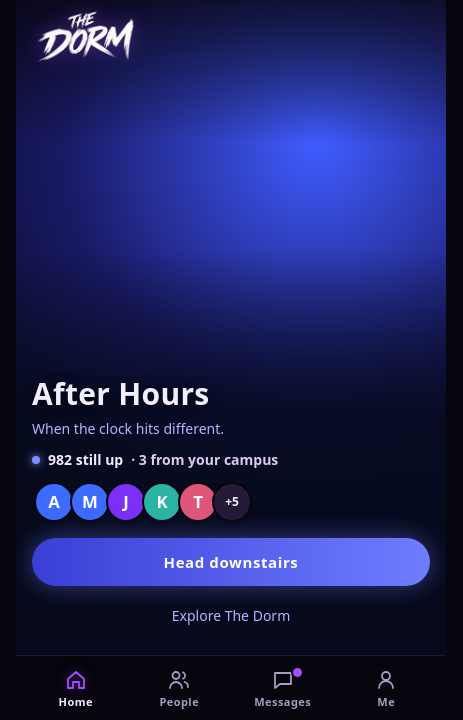
Test: in no room at After Hours: Home shows After Hours with Head downstairs
Click the button "Head downstairs" at (231, 562), box [32,538,430,586]
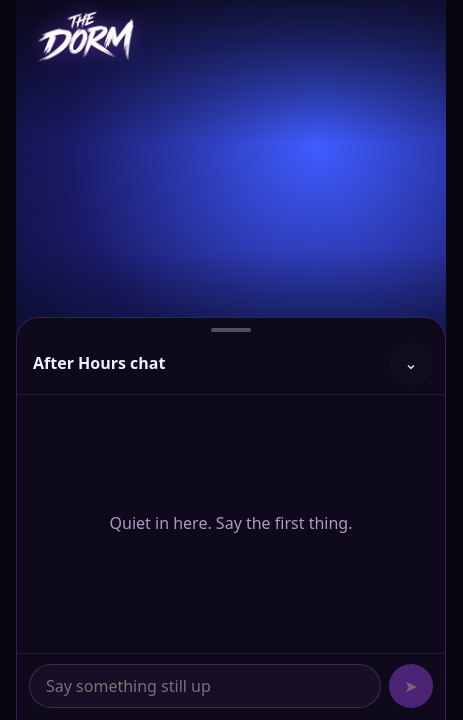
Expected: the element "After Hours chat" is shown, [16,317,446,719]
